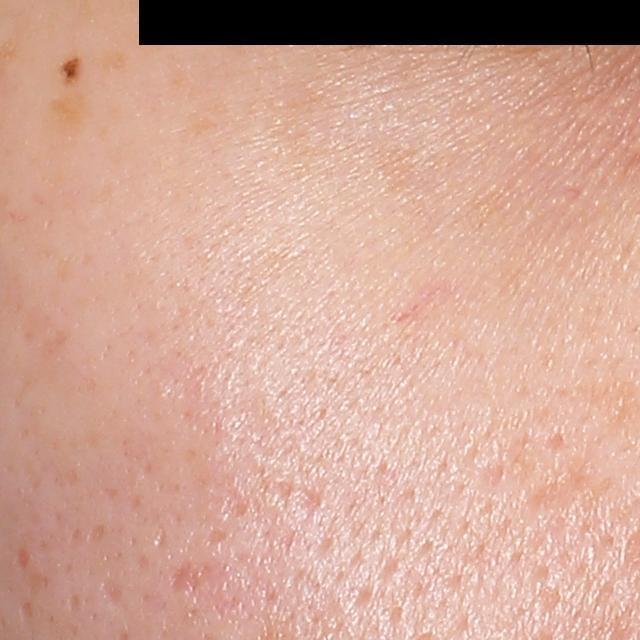atrophic_scar: (526, 472, 580, 512), (290, 485, 322, 530), (101, 578, 129, 606), (22, 602, 34, 624)
melasma: (52, 93, 88, 140), (98, 48, 129, 73)
